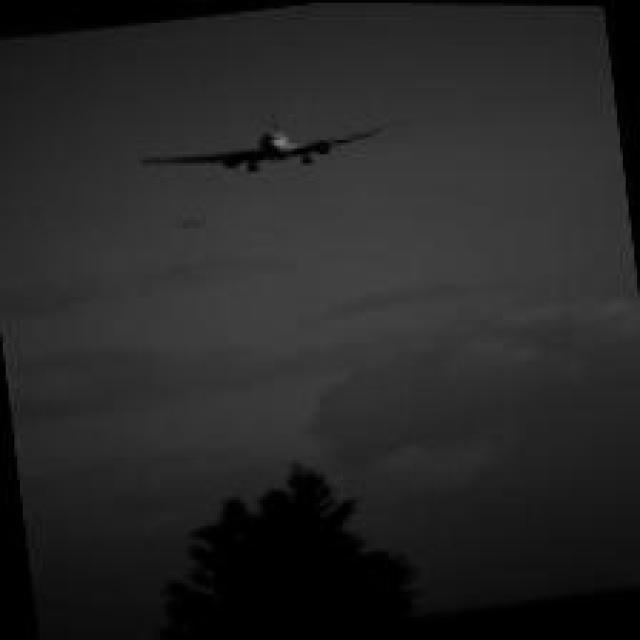aeroplane: (135, 96, 412, 184)
